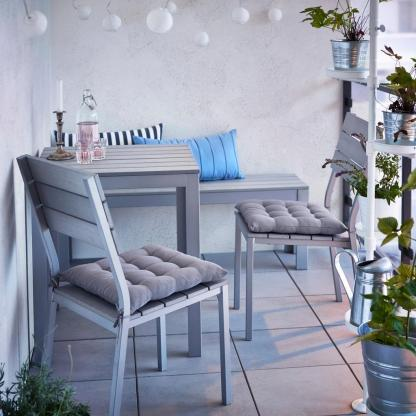Chair: (15, 153, 233, 415), (232, 109, 385, 342)
